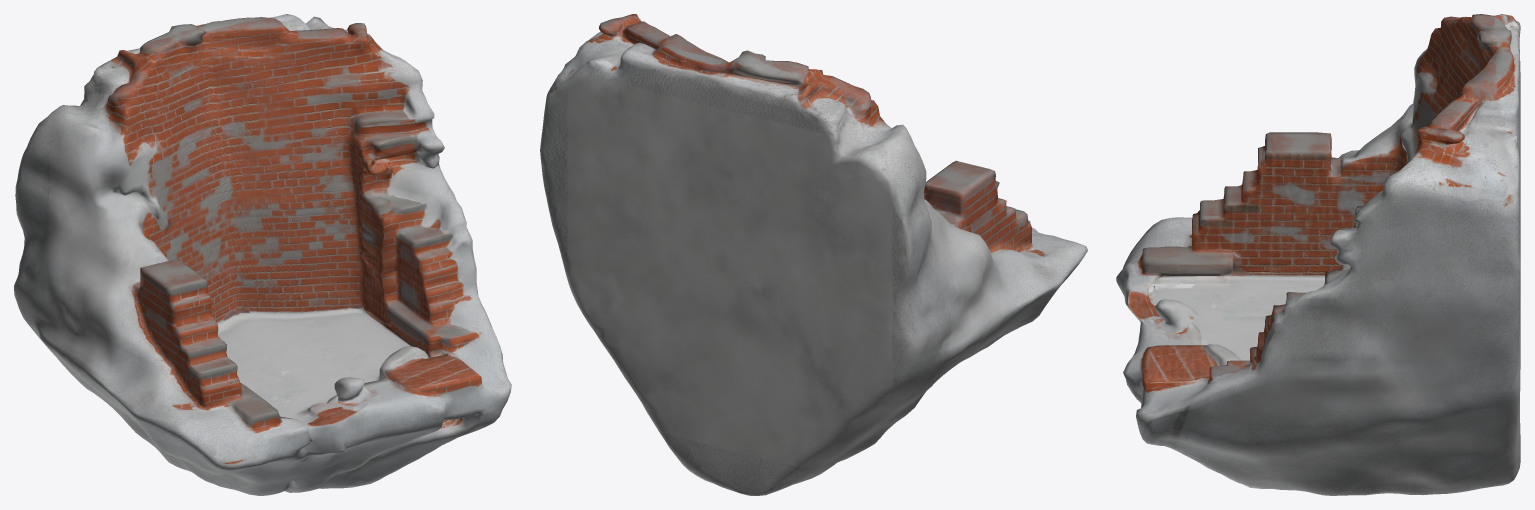
Rendered from debris_chunk_1.glb.
3 views of the same model, side by side, from view 1: azimuth 30°, elevation 25°; view 2: azimuth 150°, elevation 25°; view 3: azimuth 270°, elevation 25° (orthographic). The views are drawn at different scales.
Size of the model in its own units: 1.78 by 1.91 by 1.61.
Materials: 1 (1 with a texture image).
